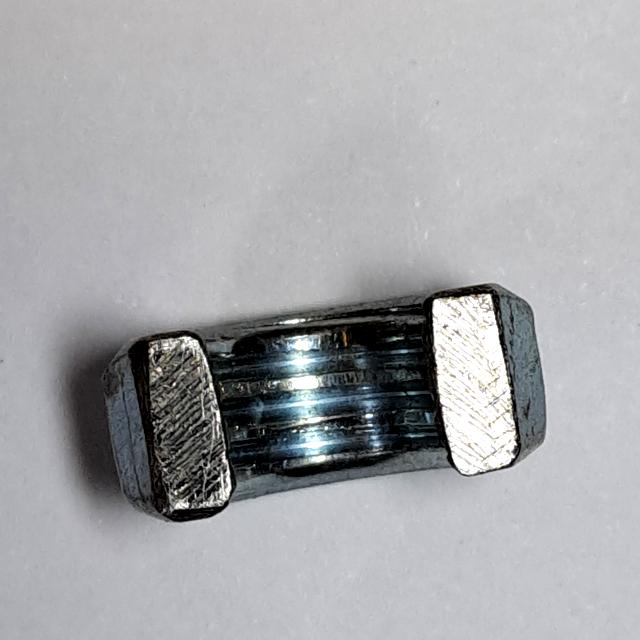Side-Fracture: (85, 273, 564, 544)
